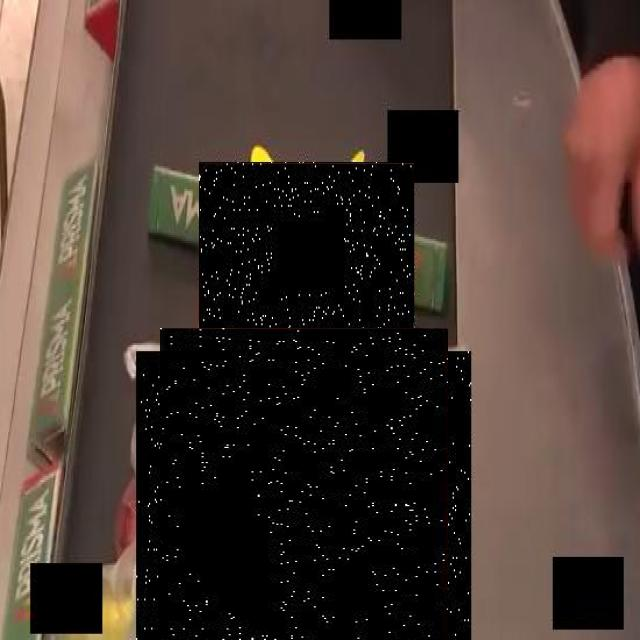food-box: (199, 162, 414, 341)
utility-box: (147, 339, 459, 640)
